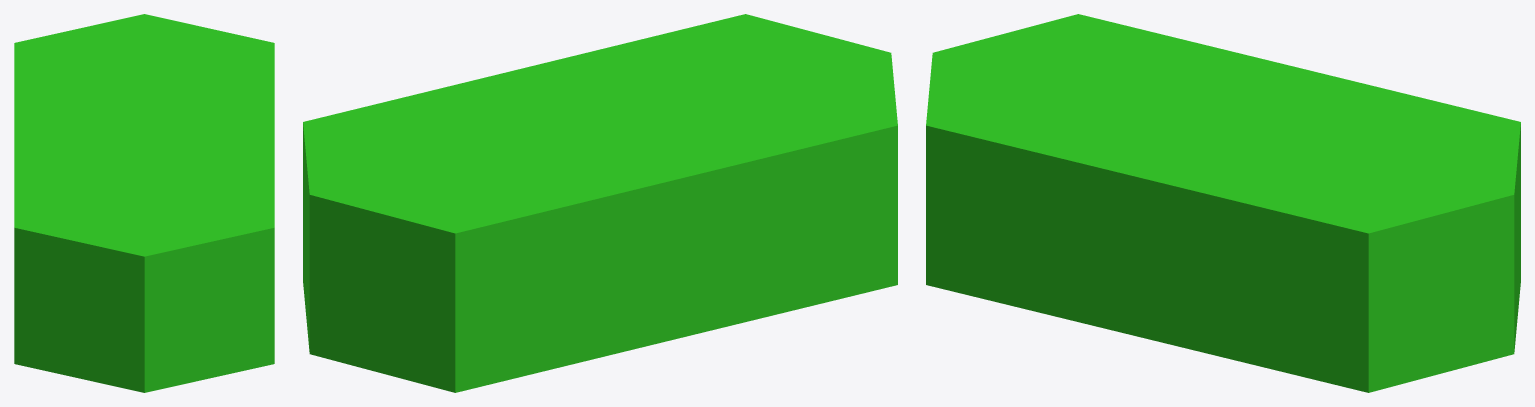
File: NormalContent.fbx
The picture shows the model from 3 angles, left to right: view 1: azimuth 30°, elevation 25°; view 2: azimuth 150°, elevation 25°; view 3: azimuth 270°, elevation 25°; orthographic projection. The views are drawn at different scales.
Visible parts, largest first — view 1: Model; view 2: Model; view 3: Model.
Boxes of the visible parts, x1,y1,x2,y2 form: Model: (14, 14, 274, 392); Model: (303, 14, 897, 392); Model: (926, 14, 1520, 392).
Size of what is drawn, in the model's own units: 0.9093 by 0.308 by 1.04.
